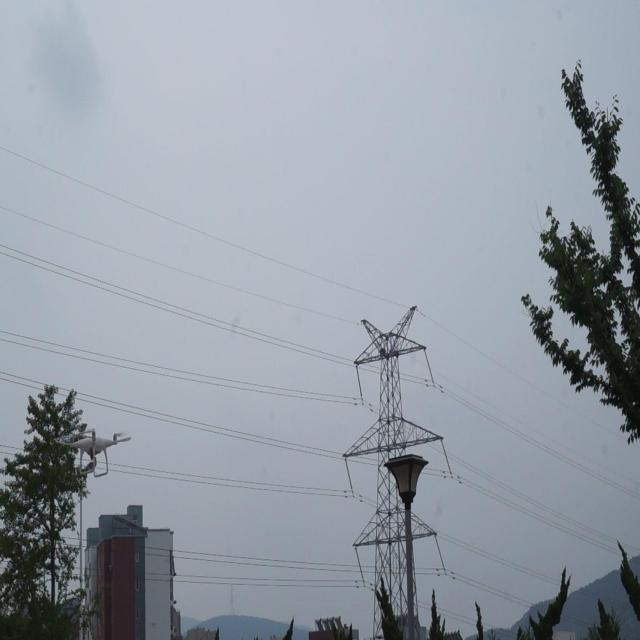drone: (51, 420, 130, 482)
